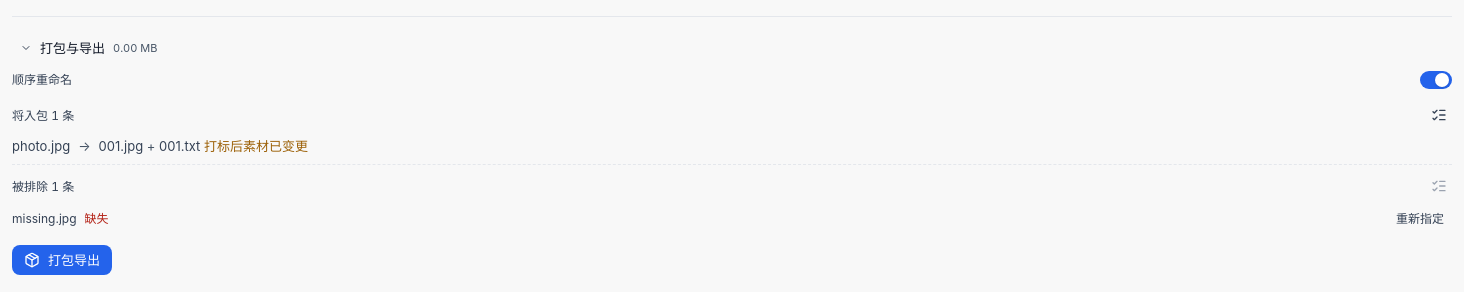
打包成功先于取消失败返回时保留下载结果
What coordinates should you click on to do the following:
click the button "打包导出"
I would click on:
 (62, 260)
Its box is [12,245,112,275].
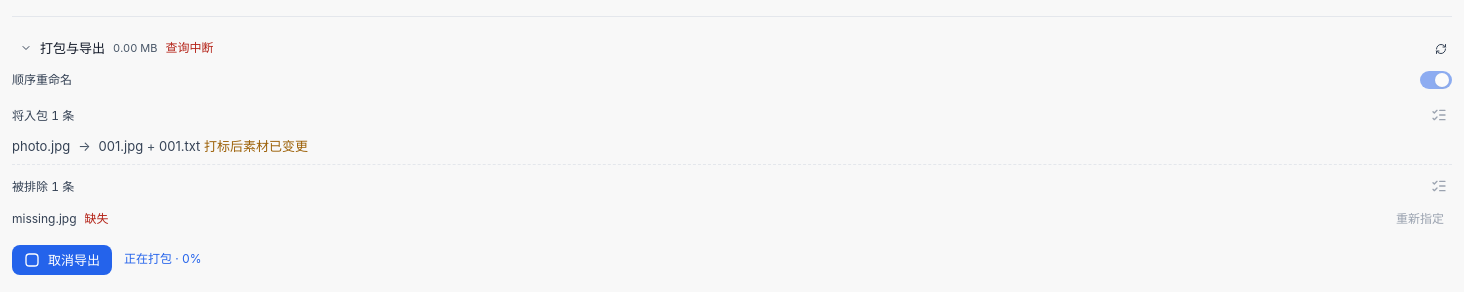
expect the text "查询中断" is shown: met, box [166,39,214,57]
What coordinates should you click on to do the following:
click the button "取消导出"
I would click on:
 (62, 260)
Its box is [12,245,112,275].
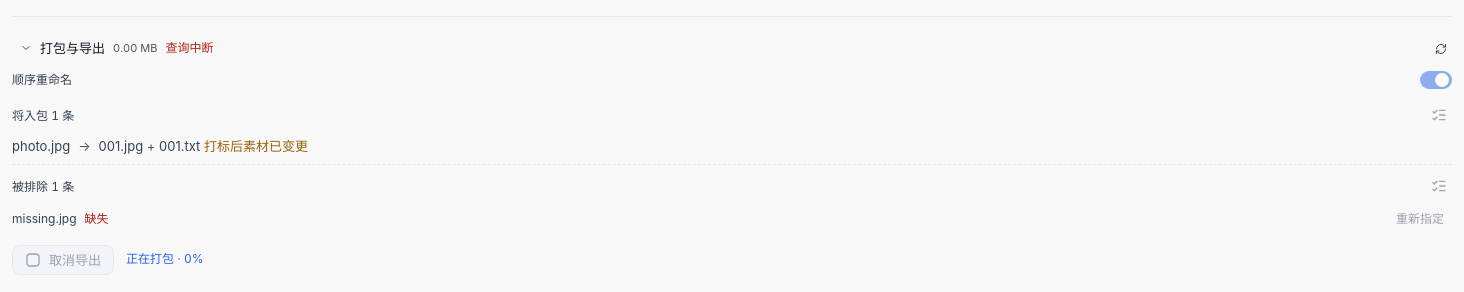
What coordinates should you click on to do the following:
click the button named "重新查询"
I would click on:
 (1441, 49)
Its box is [1430,38,1452,60].
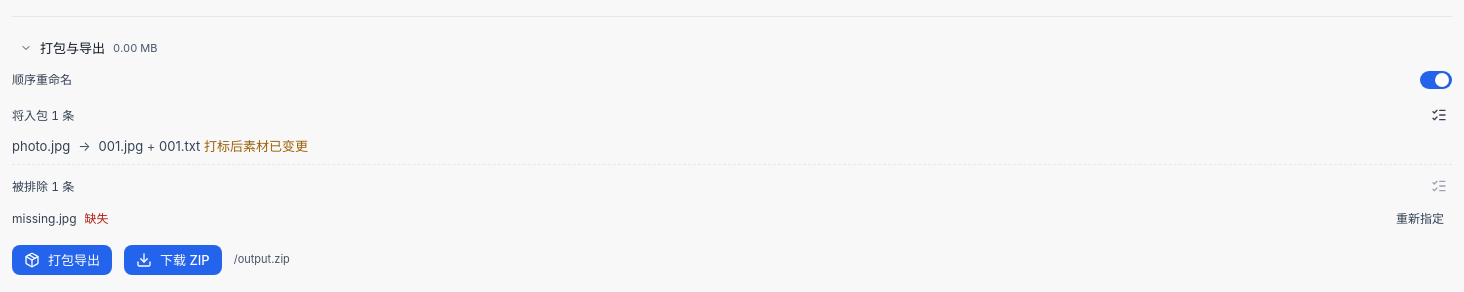
expect the link "下载 ZIP" is shown: met, box [124,245,222,275]
expect the message "查询中断" is gone: met
expect the text "正在打包 · 0%" is gone: met
